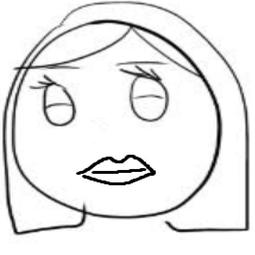cupid_mouth: (70, 151, 160, 191)
eye: (24, 74, 80, 133), (119, 66, 172, 127)
eyebrow: (108, 59, 168, 68), (51, 61, 85, 73)
